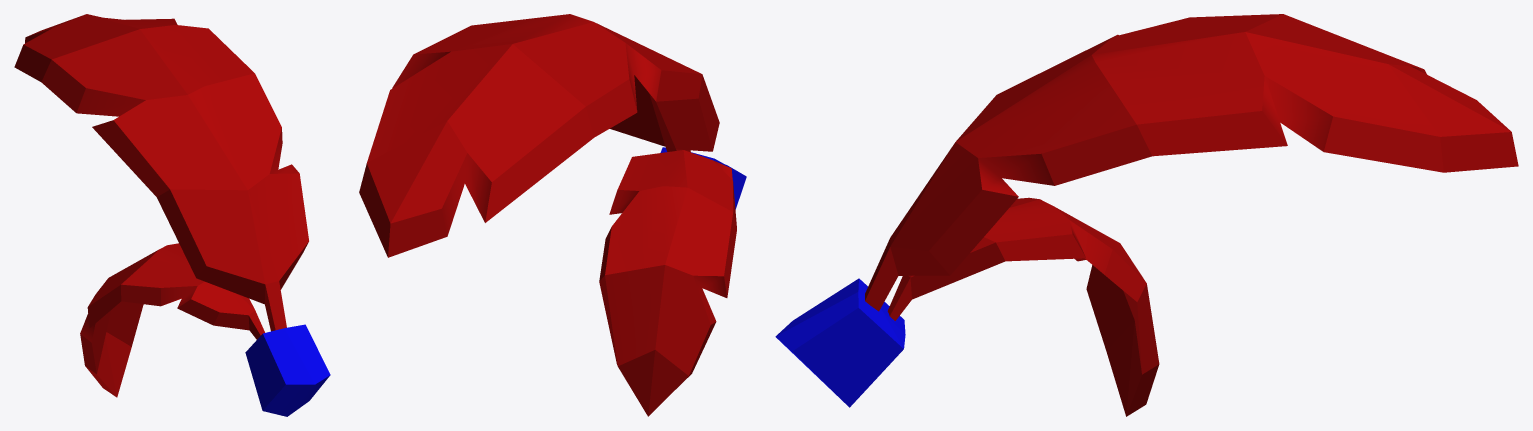
The model's file is Chr_HelmetAttachment_Static_10.fbx.
3 renders of one model, left to right at view 1: azimuth 30°, elevation 25°; view 2: azimuth 150°, elevation 25°; view 3: azimuth 270°, elevation 25°, orthographic. The views are drawn at different scales.
Visible parts, largest first — view 1: Chr_HelmetAttachment_10; view 2: Chr_HelmetAttachment_10; view 3: Chr_HelmetAttachment_10.
Boxes of the visible parts, x1,y1,x2,y2 form: Chr_HelmetAttachment_10: [14, 14, 330, 416]; Chr_HelmetAttachment_10: [359, 14, 746, 416]; Chr_HelmetAttachment_10: [775, 14, 1518, 416].
Bounding box in the file's own units: 26.03 × 40.66 × 63.85.
